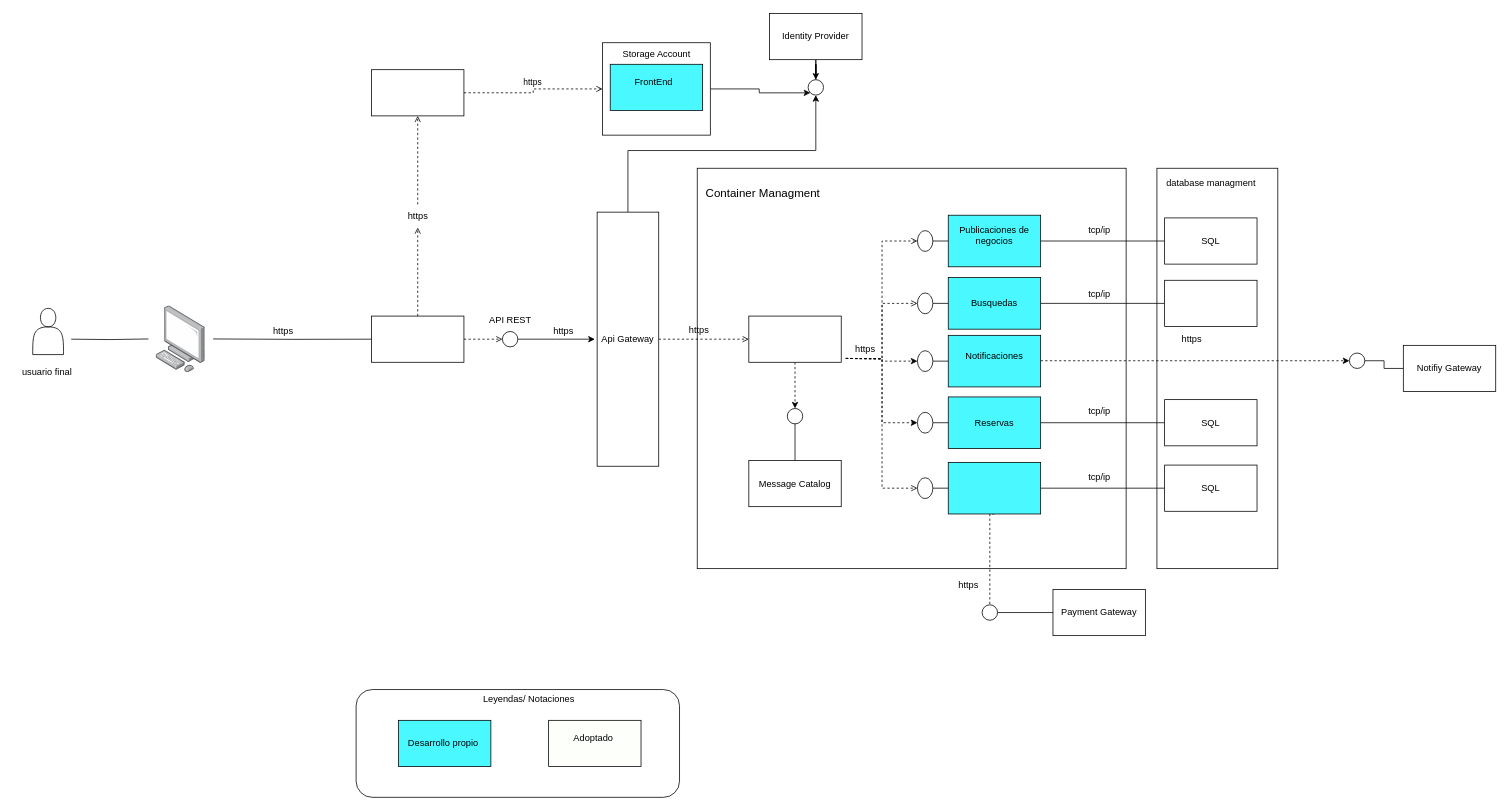
Image size: 1509x811. Some labels were removed from this diagram. The centre of each missing label's shape, as x and y in pixels:
"CDN" goes at pixel 417 92.
"NOSQL" goes at pixel 1210 303.
"Pagos" goes at pixel 994 488.
"Service Mesh" goes at pixel 794 338.
"WAF" goes at pixel 417 338.
